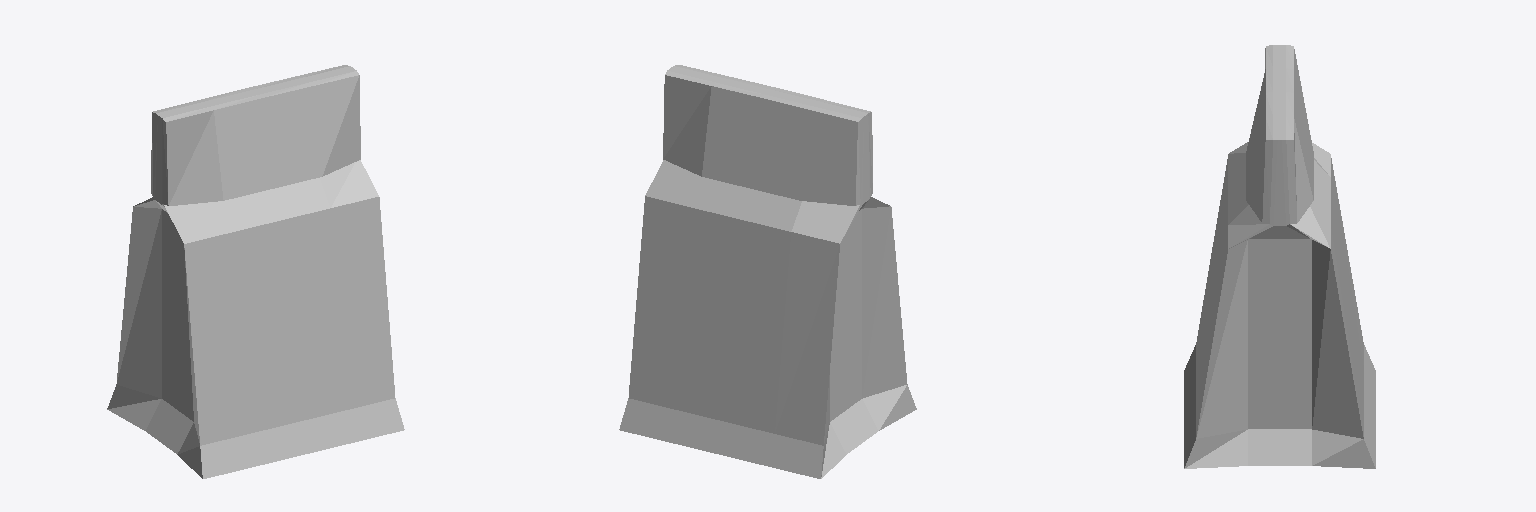
Rendered from seedbag.obj.
The picture shows the model from 3 angles: view 1: azimuth 30°, elevation 25°; view 2: azimuth 150°, elevation 25°; view 3: azimuth 270°, elevation 25°; orthographic projection.
Parts seen in each view (by area): view 1: seedbag:pCube1; view 2: seedbag:pCube1; view 3: seedbag:pCube1.
Part boxes in pixels (bbox=[...]): seedbag:pCube1: bbox=[107, 65, 404, 478]; seedbag:pCube1: bbox=[619, 65, 916, 478]; seedbag:pCube1: bbox=[1184, 45, 1375, 468].
Size of the model in its own units: 0.6456 by 1 by 0.53.